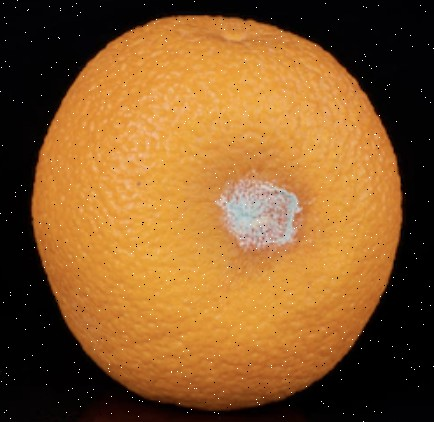rotten_orange: (32, 17, 402, 404)
